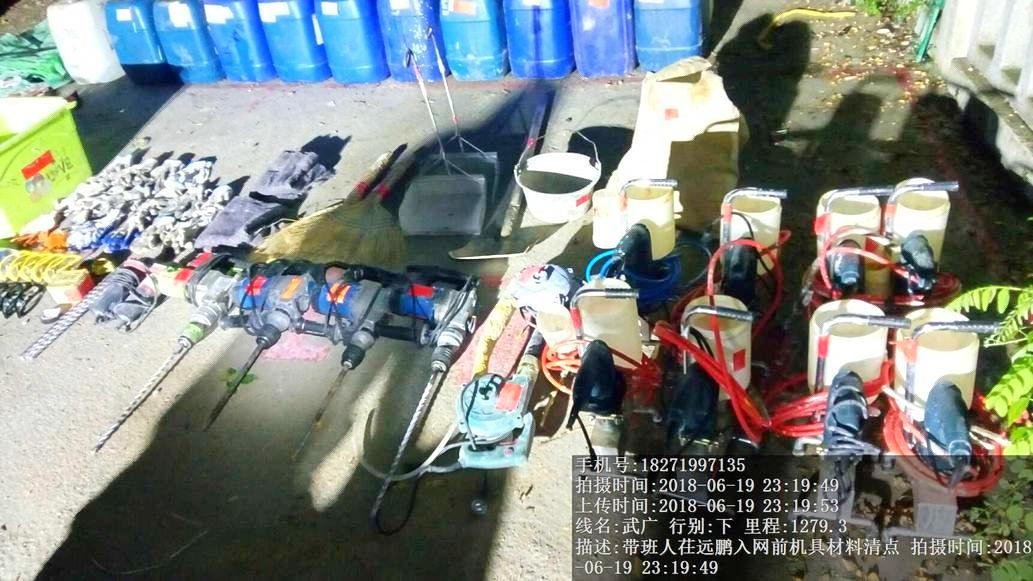DZ: (387, 273, 477, 394), (146, 261, 228, 390), (311, 271, 394, 394), (232, 270, 311, 389)
SB: (265, 148, 415, 263)
SNT: (508, 137, 601, 220)
